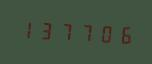one: (17, 16, 35, 41)
seven: (56, 18, 74, 43), (75, 19, 93, 44)
six: (113, 21, 131, 46)
three: (36, 17, 54, 42)
zero: (94, 20, 112, 45)
